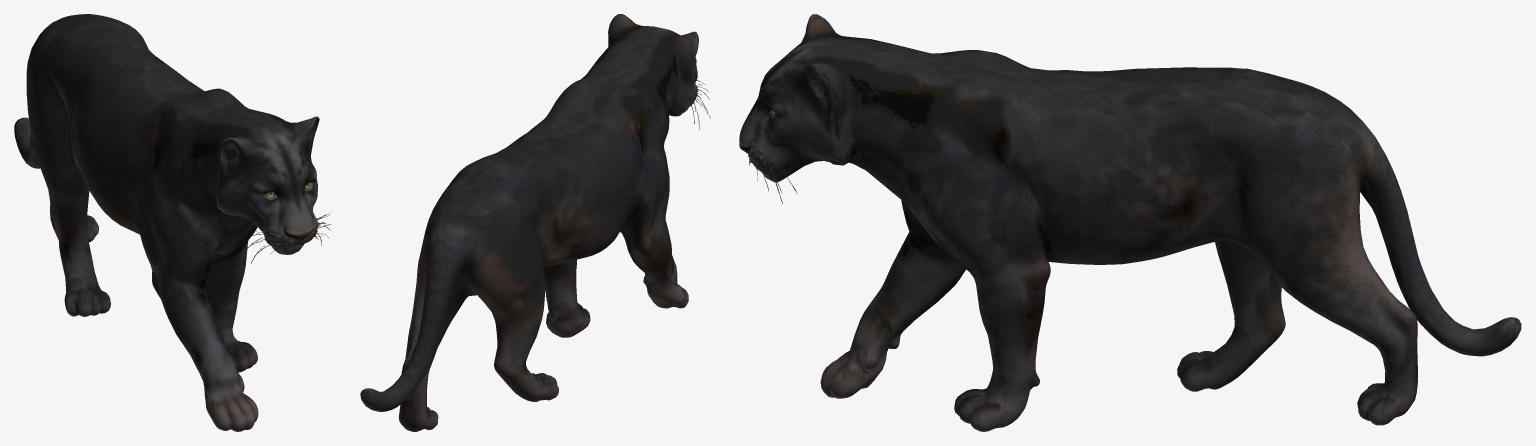
Rendered from panther.glb.
The picture shows the model from 3 angles, left to right: view 1: azimuth 30°, elevation 25°; view 2: azimuth 150°, elevation 25°; view 3: azimuth 270°, elevation 25°; orthographic projection. The views are drawn at different scales.
Size of the model in its own units: 0.4124 by 0.9884 by 1.9.
Materials: 1 (1 with a texture image).
